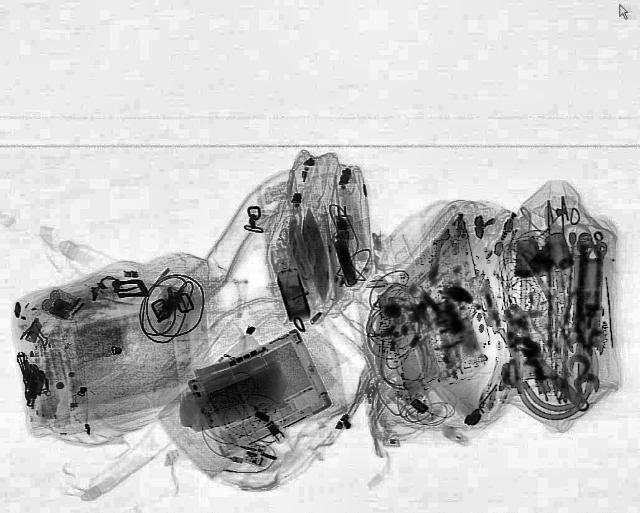Wrench: (572, 335, 602, 392), (566, 311, 592, 372)
